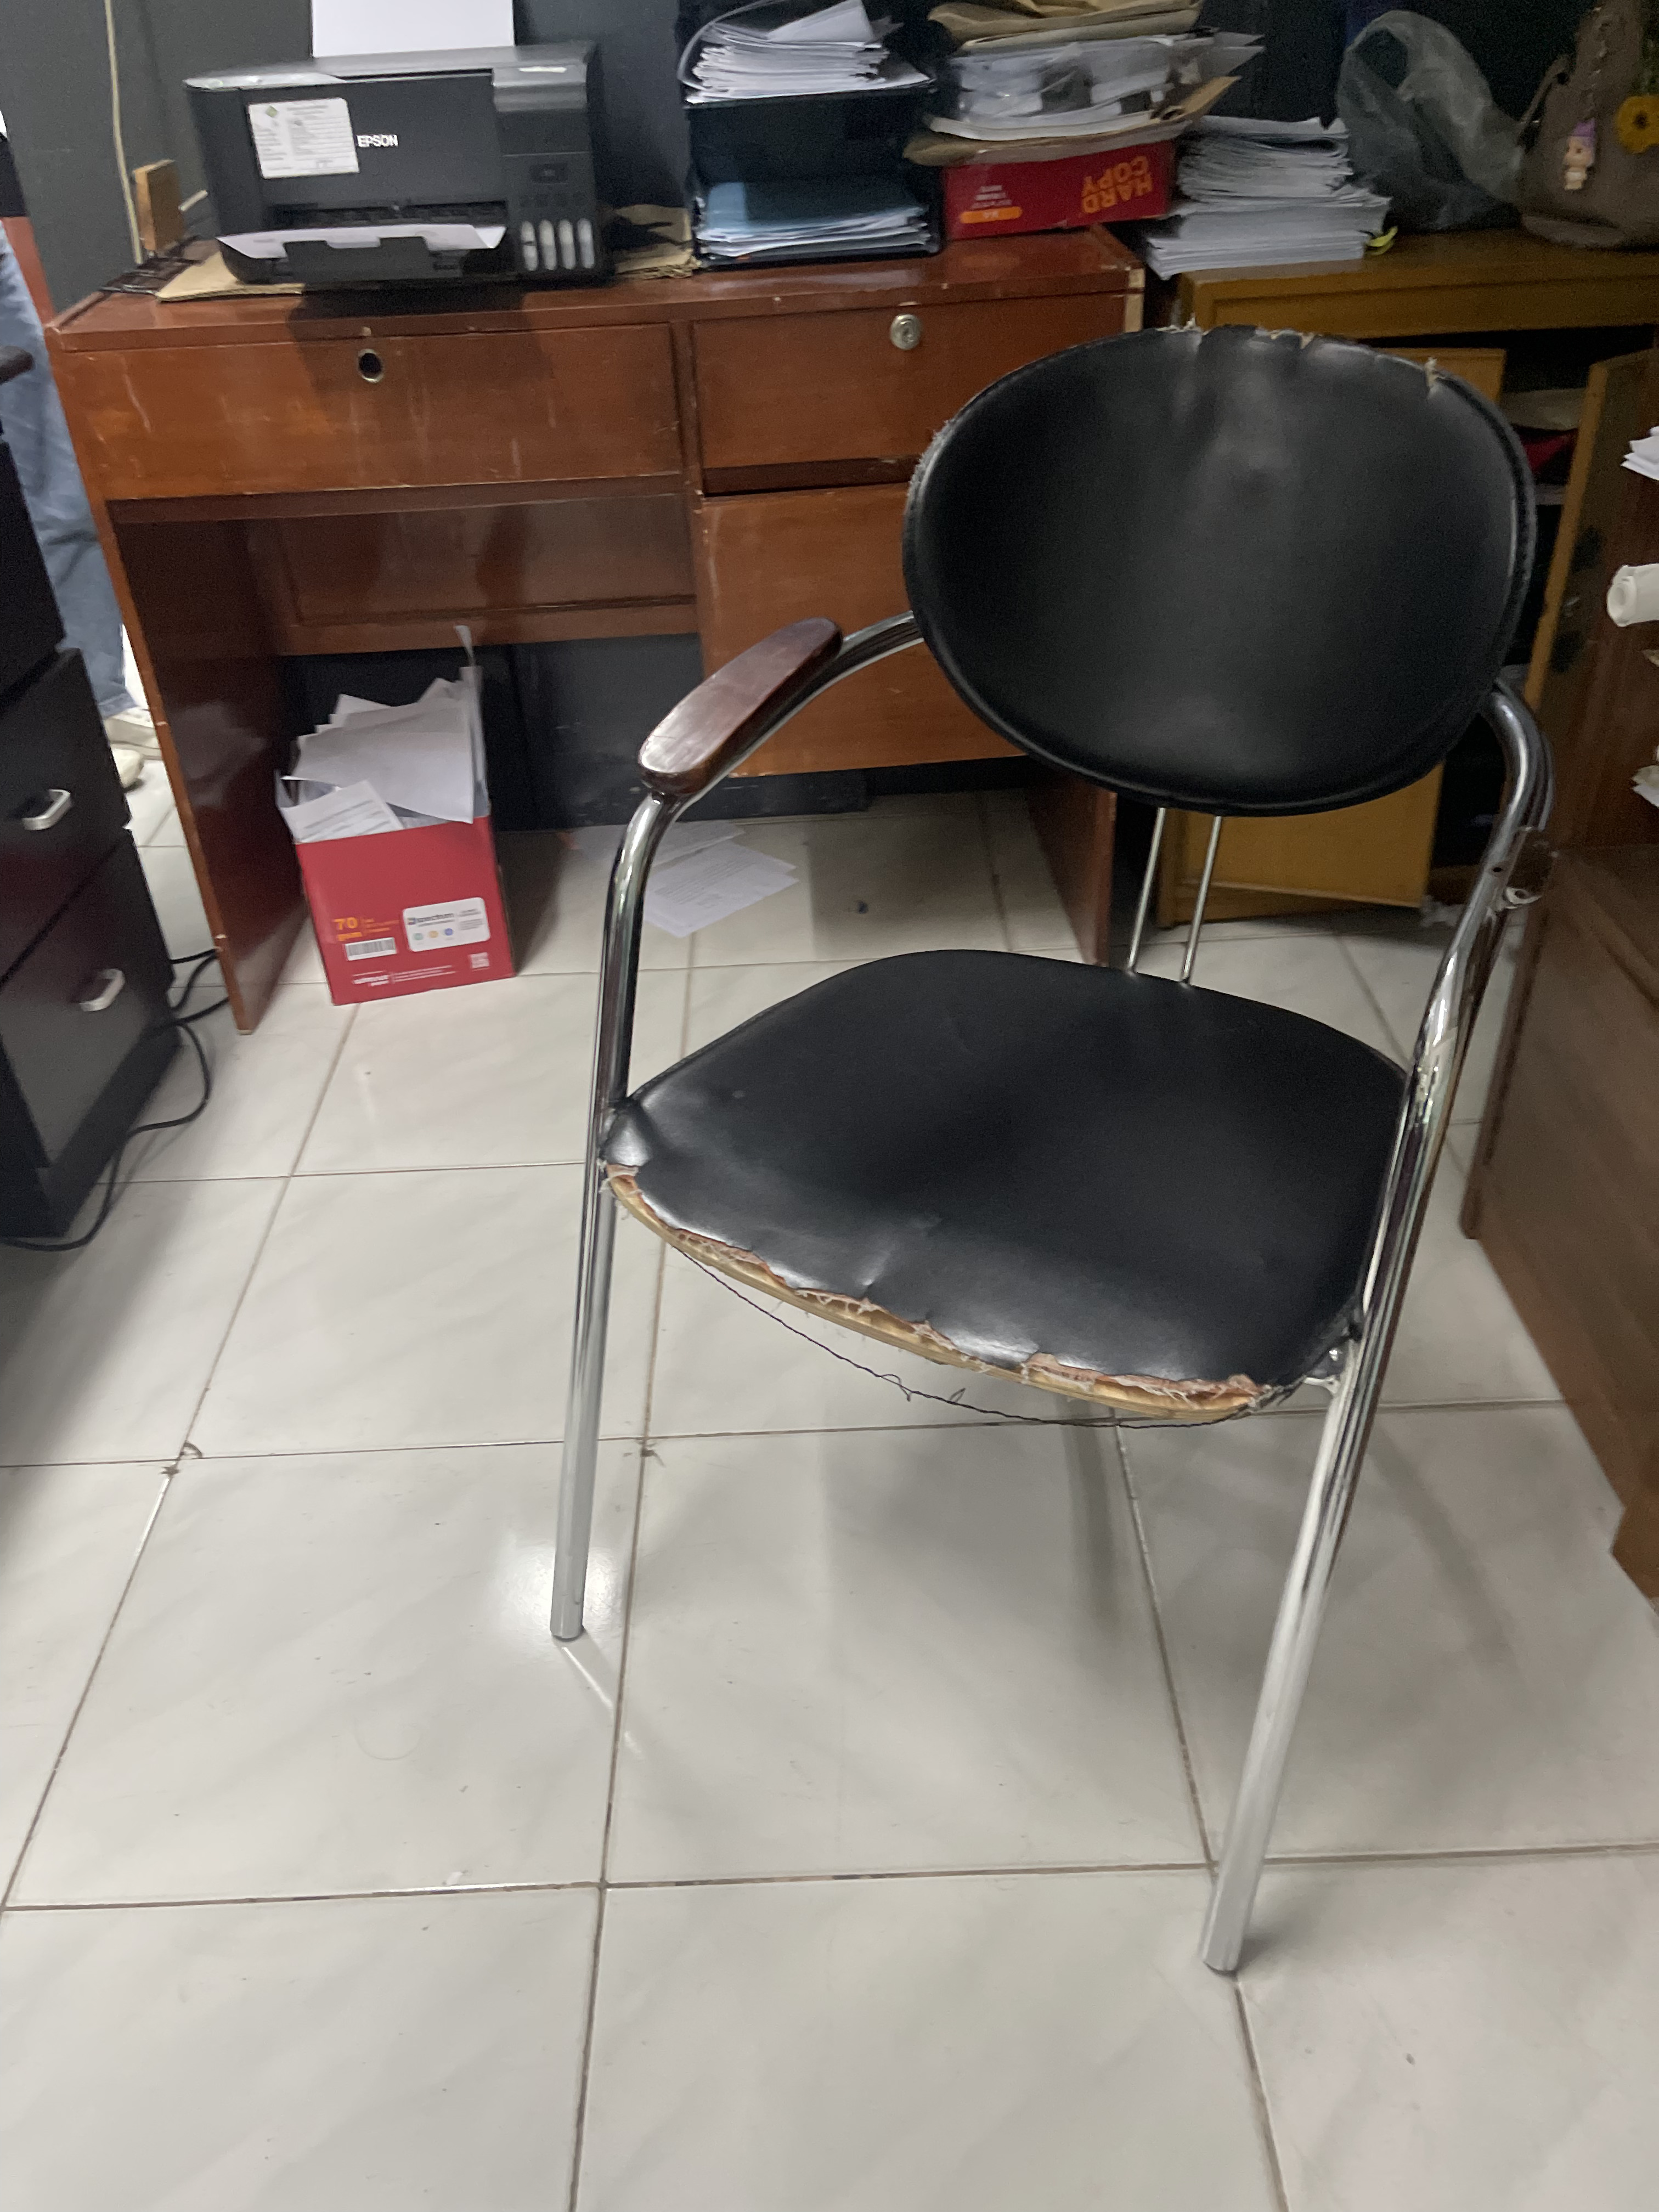chair1: (545, 317, 1561, 1991)
